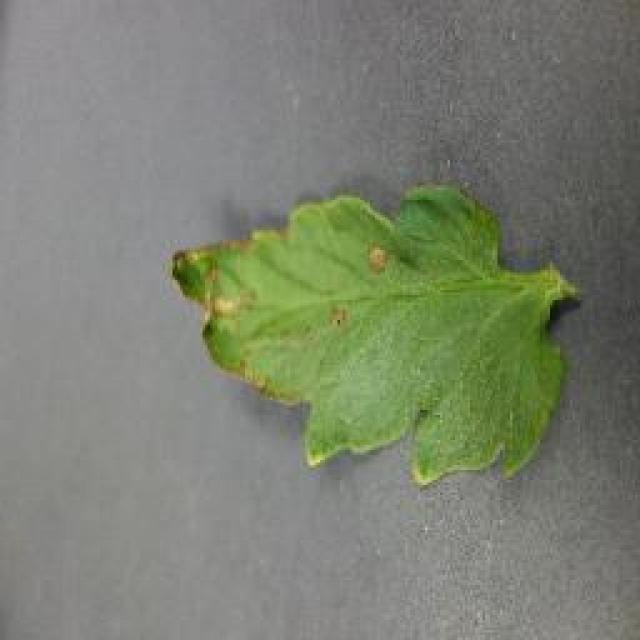Tom_Bacterial_spot: (166, 222, 296, 404), (352, 228, 407, 288), (312, 286, 358, 352)
